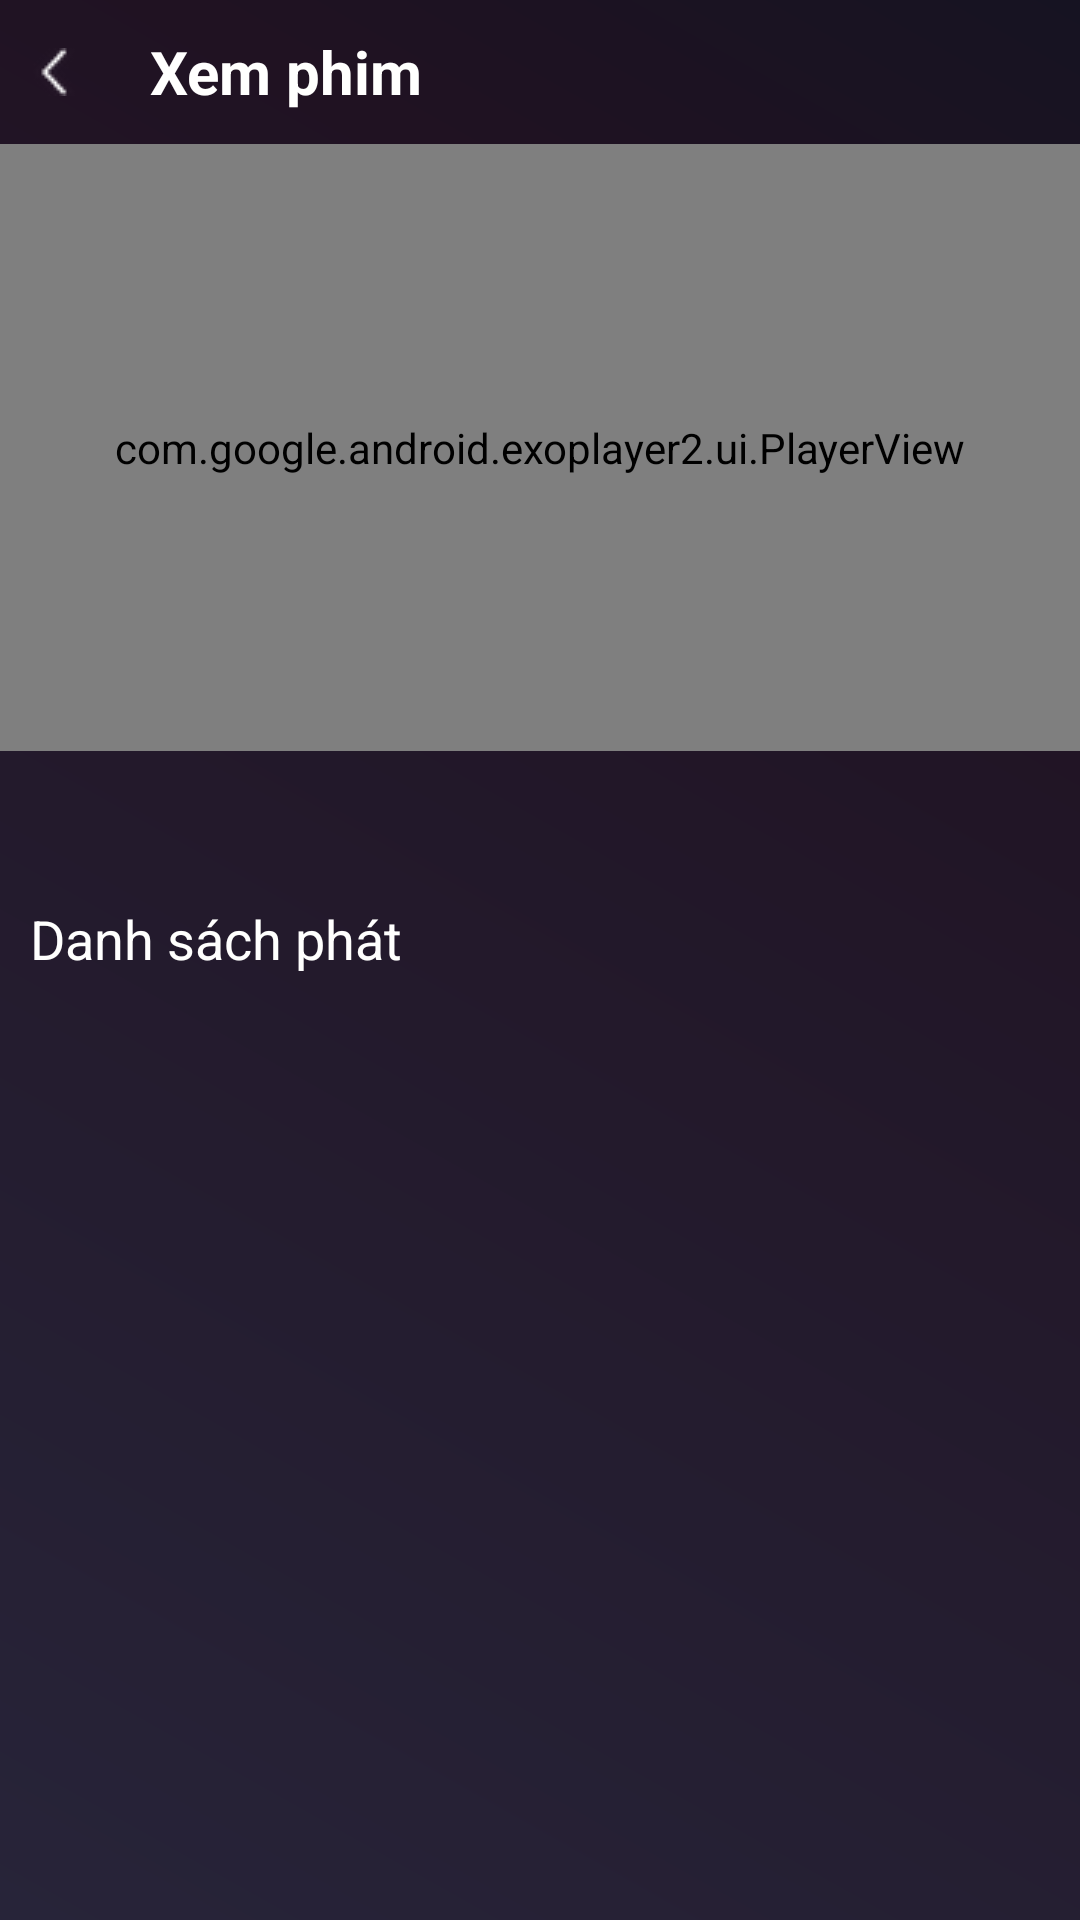

Icon bounding boxes for this 1080x1920 phone screenshot, format (x1, y1, x2, y2):
arrowleft: (41, 48, 67, 96)
